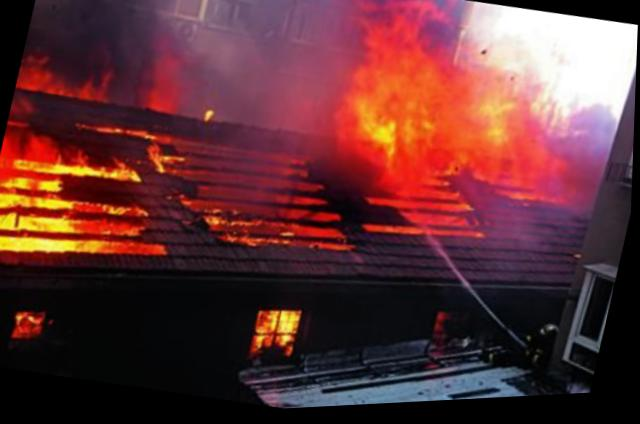fire: (334, 31, 474, 201), (445, 78, 551, 190), (0, 144, 139, 191), (0, 218, 118, 272), (17, 59, 117, 105), (0, 201, 86, 244), (252, 305, 308, 361), (0, 183, 79, 221), (145, 56, 194, 117), (7, 168, 69, 198), (15, 305, 53, 342)
